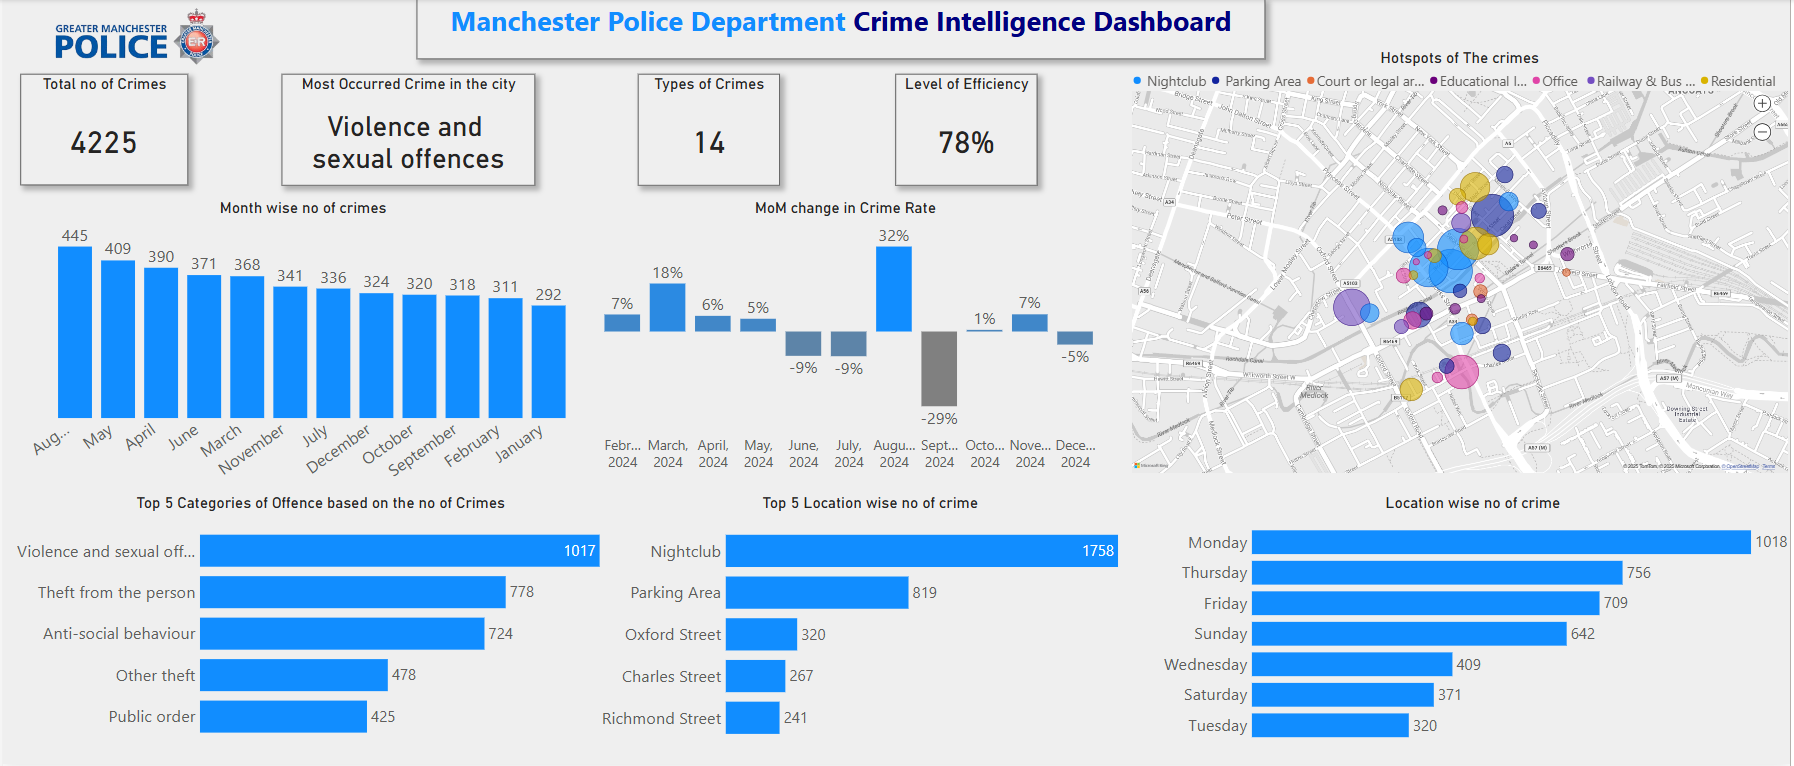

The dashboard page shown, as its layout file describes it:
{"tool":"powerbi","page":{"name":"Final Crime report","canvas":[3500,1500],"ordinal":3},"visuals":[{"type":"textbox","box":[810,0,1662,117.7],"z":0},{"type":"card","title":"Total no of Crimes ","fields":{"Values":["CrimeDataset_UK.total crimes in city"]},"box":[34.3,146.9,328.1,217.9],"z":1000},{"type":"card","title":"Most Occurred Crime in the city","fields":{"Values":["CrimeDataset_UK.MOCrime"]},"box":[546.5,145.7,496.1,218.6],"z":2000},{"type":"card","title":"Types of Crimes","fields":{"Values":["CrimeDataset_UK.crime cat"]},"box":[1244.4,145.7,277.5,218.6],"z":3000},{"type":"card","title":"Level of Efficiency","fields":{"Values":["CrimeDataset_UK.Cal_of_efficiency"]},"box":[1748.9,145.7,277.5,218.6],"z":4000},{"type":"clusteredBarChart","title":"Top 5 Categories of Offence based on the  no of Crimes ","fields":{"Category":["CrimeDataset_UK.Category"],"Y":["CrimeDataset_UK.total crimes in city"]},"box":[0,969.7,1244.4,507.3],"z":5000},{"type":"clusteredBarChart","title":"Top 5 Location wise no of crime","fields":{"Y":["CrimeDataset_UK.total crimes in city"],"Category":["CrimeDataset_UK.Location"]},"box":[1140.7,969.7,1115.5,510.1],"z":6000},{"type":"clusteredBarChart","title":"Location wise no of crime","fields":{"Y":["CrimeDataset_UK.total crimes in city"],"Category":["CrimeDataset_UK.Day Name"]},"box":[2256.7,970,1243.3,506.7],"z":7000},{"type":"map","title":"Hotspots of The crimes ","fields":{"Y":["CrimeDataset_UK.Latitude"],"X":["CrimeDataset_UK.Longitude"],"Size":["CrimeDataset_UK.total crimes in city"],"Series":["CrimeDataset_UK.Area"]},"box":[2205.7,98.1,1294.8,835.2],"z":8000},{"type":"clusteredColumnChart","title":"Month wise no of crimes","fields":{"Category":["CrimeDataset_UK.Month Name"],"Y":["CrimeDataset_UK.total crimes in city"]},"box":[33.6,392.4,1107.1,577.4],"z":9000},{"type":"clusteredColumnChart","title":"MoM change in Crime Rate ","fields":{"Y":["CrimeDataset_UK.month on month change in crime rate"],"Category":["CrimeDataset_UK.Date"]},"box":[1123.7,391.7,1052.7,541.1],"z":10000},{"type":"image","box":[34.3,0,460.3,146.9],"z":11000}]}

Visuals, with their boxes in screenshot pixels (x1, y1, x2, y2), scaled from the page's 3500x1500 canvas onto the 1794x766 screenshot:
textbox: bbox=(415, 0, 1267, 60)
"Total no of Crimes " card: bbox=(18, 75, 186, 186)
"Most Occurred Crime in the city" card: bbox=(280, 74, 534, 186)
"Types of Crimes" card: bbox=(638, 74, 780, 186)
"Level of Efficiency" card: bbox=(896, 74, 1039, 186)
"Top 5 Categories of Offence based on the  no of Crimes " clusteredBarChart: bbox=(0, 495, 638, 754)
"Top 5 Location wise no of crime" clusteredBarChart: bbox=(585, 495, 1156, 756)
"Location wise no of crime" clusteredBarChart: bbox=(1157, 495, 1793, 754)
"Hotspots of The crimes " map: bbox=(1131, 50, 1793, 477)
"Month wise no of crimes" clusteredColumnChart: bbox=(17, 200, 585, 495)
"MoM change in Crime Rate " clusteredColumnChart: bbox=(576, 200, 1116, 476)
image: bbox=(18, 0, 254, 75)
